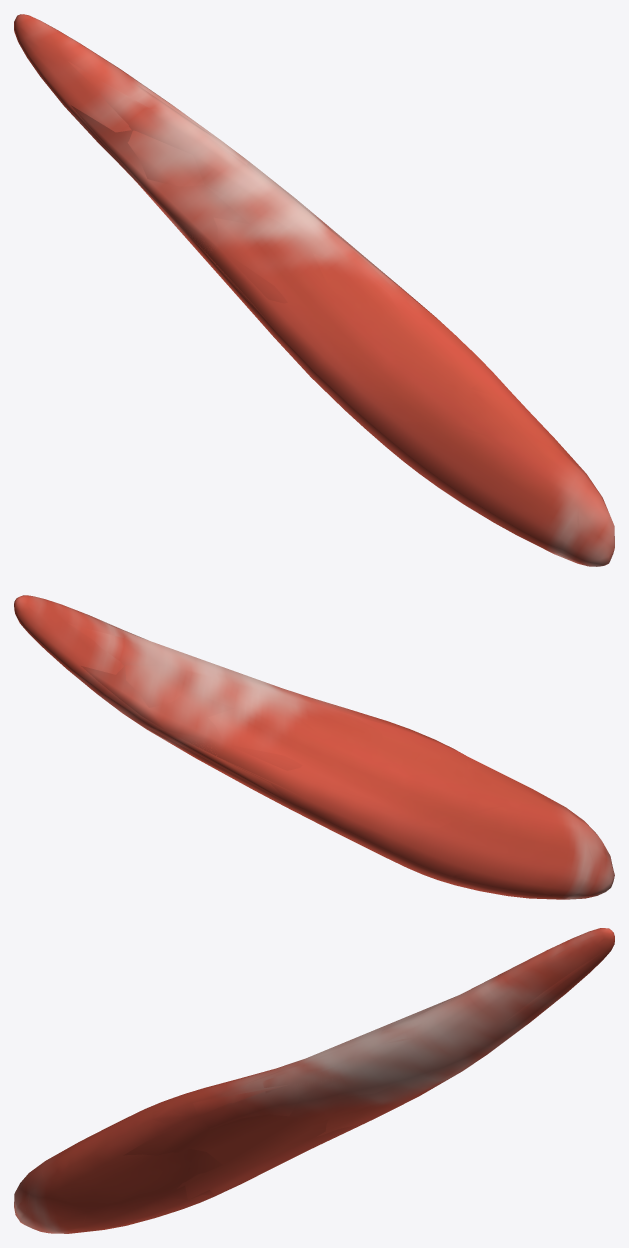
Rendered from R Adductor.fbx.
3 views of the same model, one above another, from view 1: azimuth 90°, elevation 25°; view 2: azimuth 150°, elevation 25°; view 3: azimuth 270°, elevation 25° (orthographic). The views are drawn at different scales.
Visible parts, largest first — view 1: R Adductor, R Adductor low; view 2: R Adductor, R Adductor low; view 3: R Adductor, R Adductor low.
Boxes of the visible parts, <box> form: R Adductor: <box>14,14,614,566</box>; R Adductor low: <box>15,34,606,558</box>; R Adductor: <box>14,595,614,899</box>; R Adductor low: <box>15,610,593,899</box>; R Adductor: <box>14,928,614,1233</box>; R Adductor low: <box>16,938,614,1232</box>.
Bounding box in the file's own units: 7.05 × 10.57 × 13.48.
